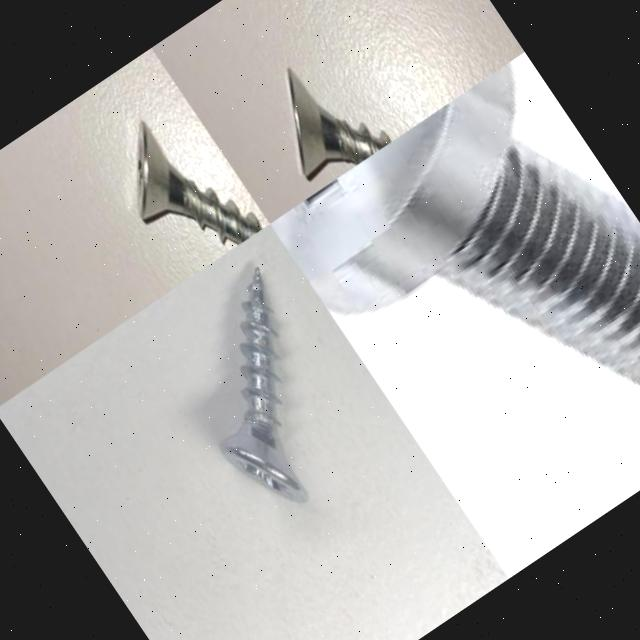Screw: (270, 61, 640, 387), (138, 260, 387, 532), (137, 120, 265, 245), (285, 67, 392, 179)
